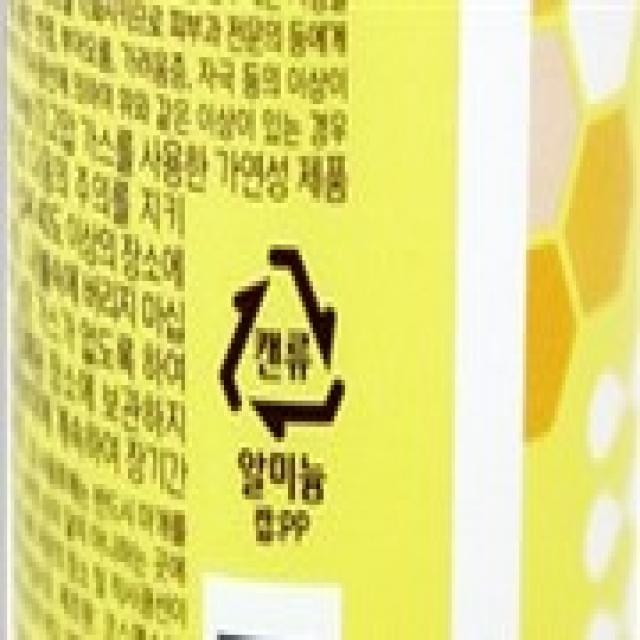Can: (214, 238, 352, 447)
